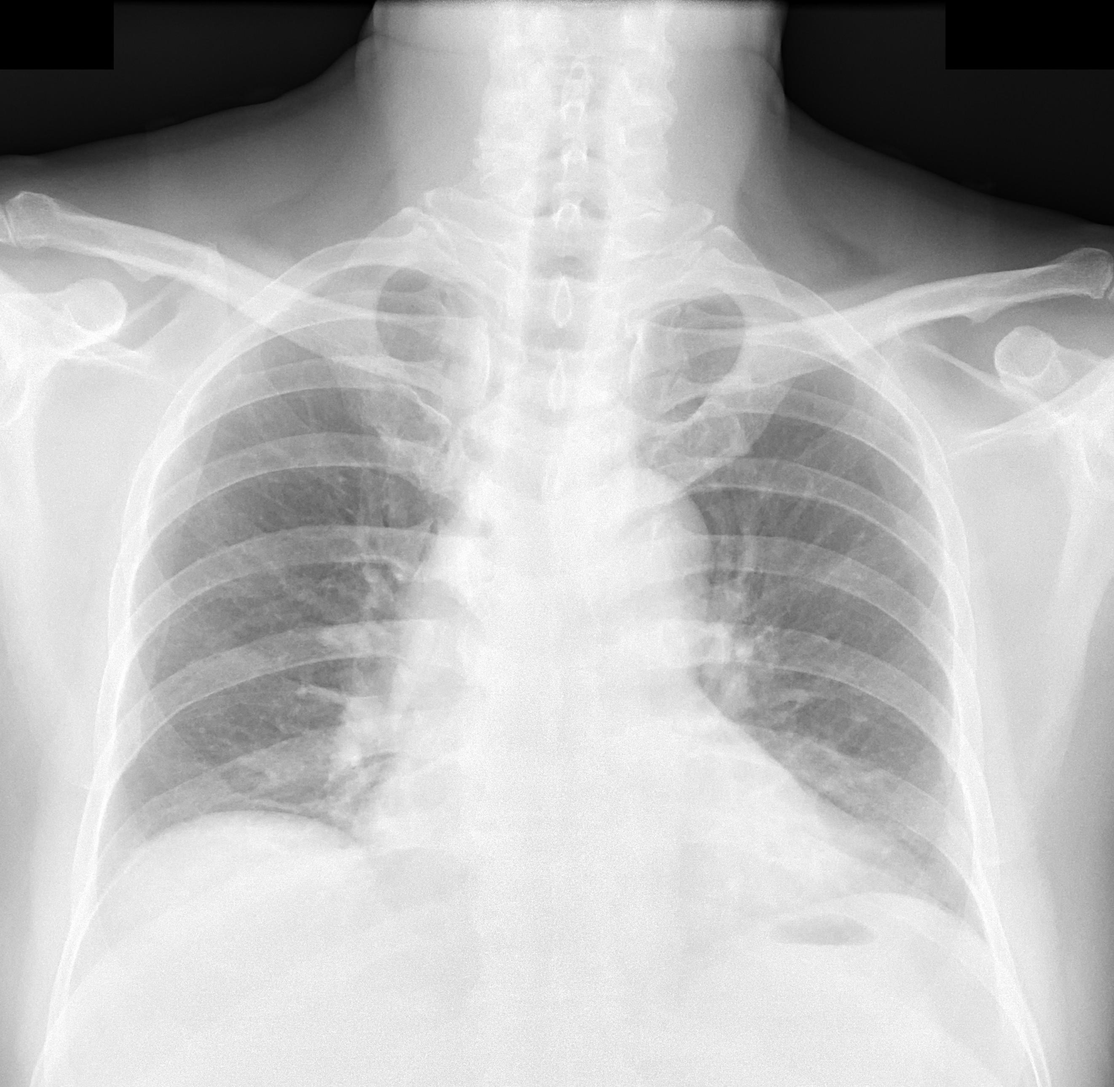Aortic enlargement: (555, 465, 706, 609)
